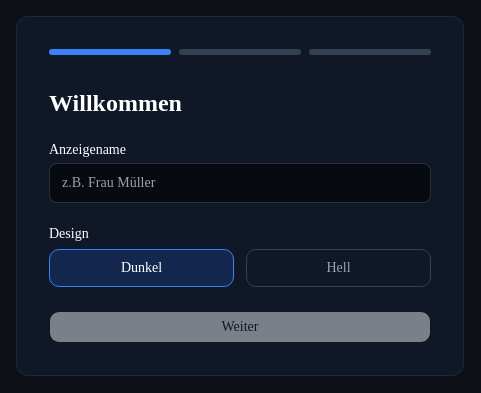
Test case: Onboarding wizard › advances to step 2 after entering display name
In the field labelled "Anzeigename": (240, 183) [49, 163, 431, 203], type "Frau Müller"
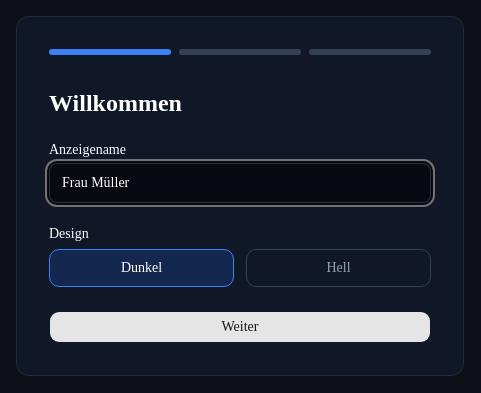
Click the button "Weiter": (240, 327) [49, 311, 431, 343]
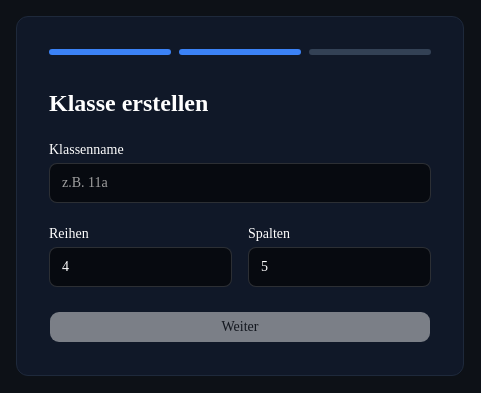
Expected: the heading "Klasse erstellen" is shown, [49, 90, 208, 116]
